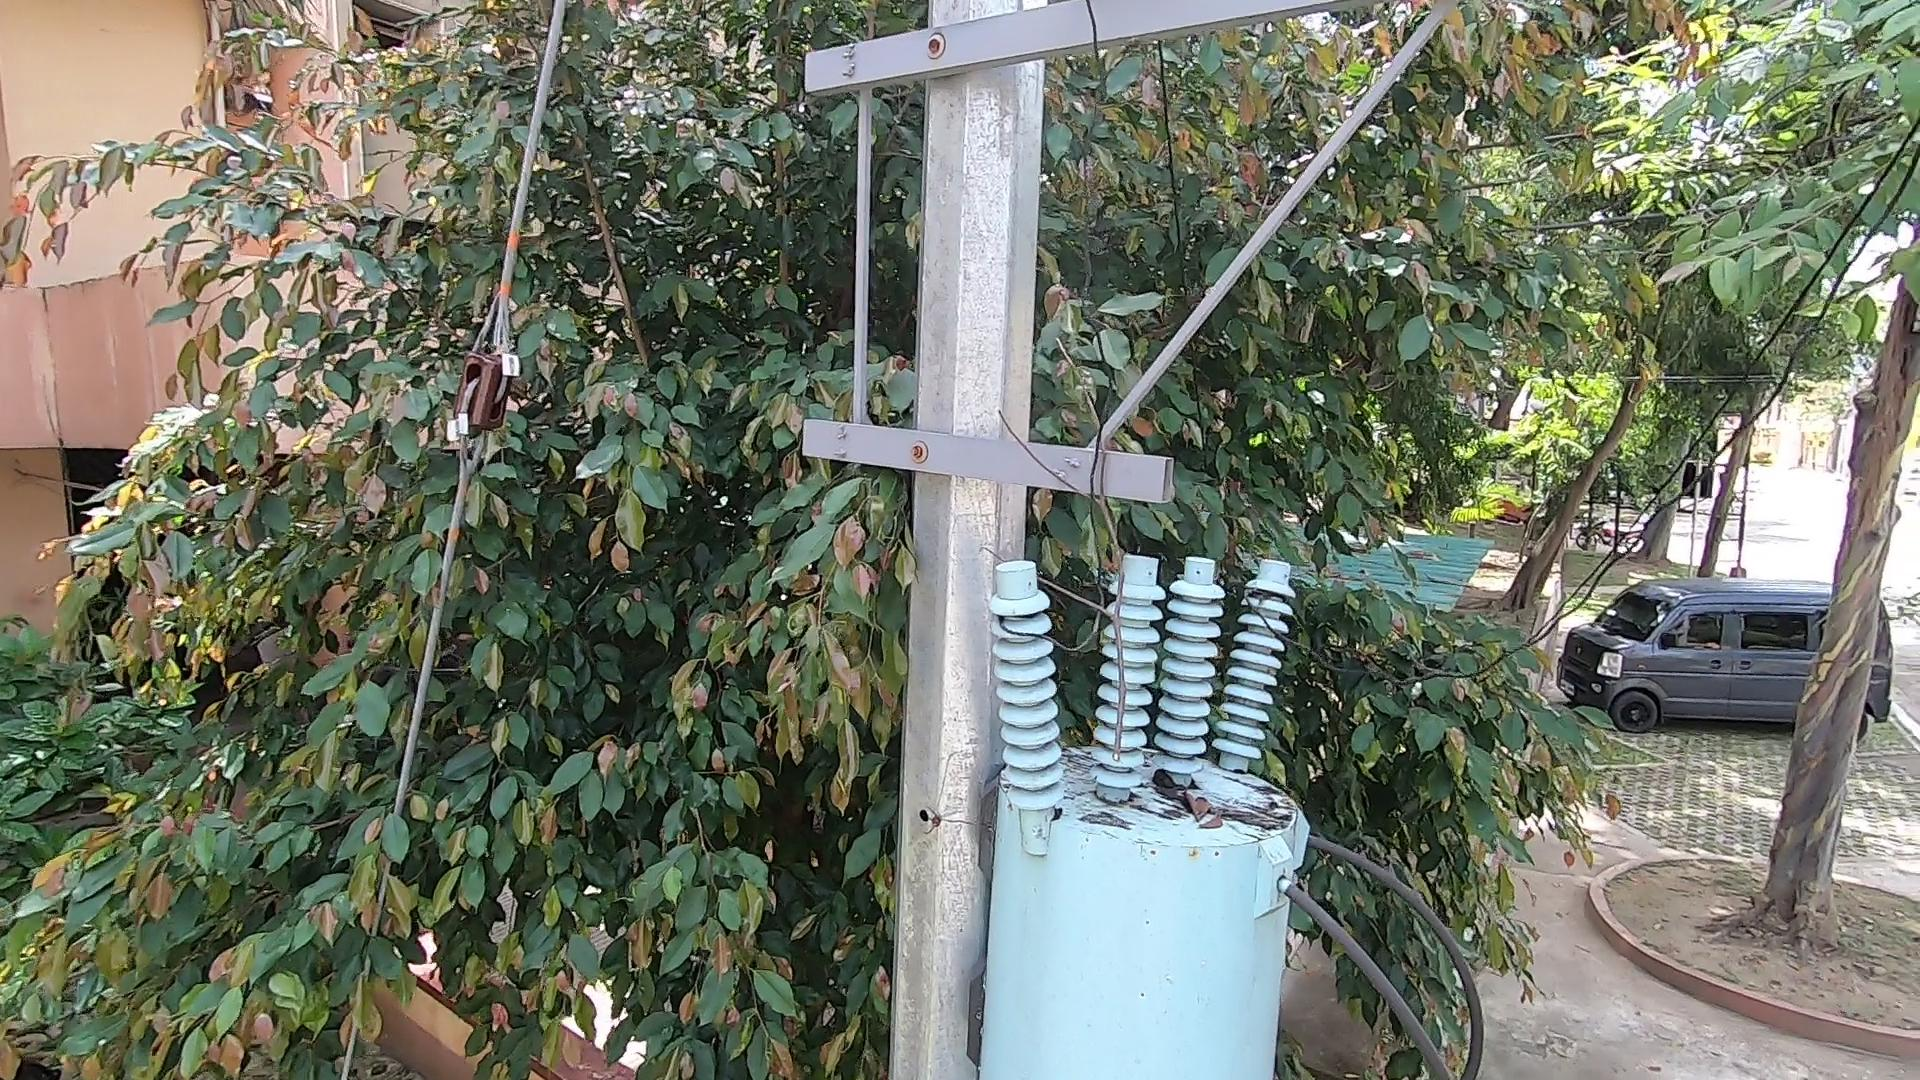leaf: (1151, 762, 1245, 832)
tree branch: (994, 334, 1153, 766)
